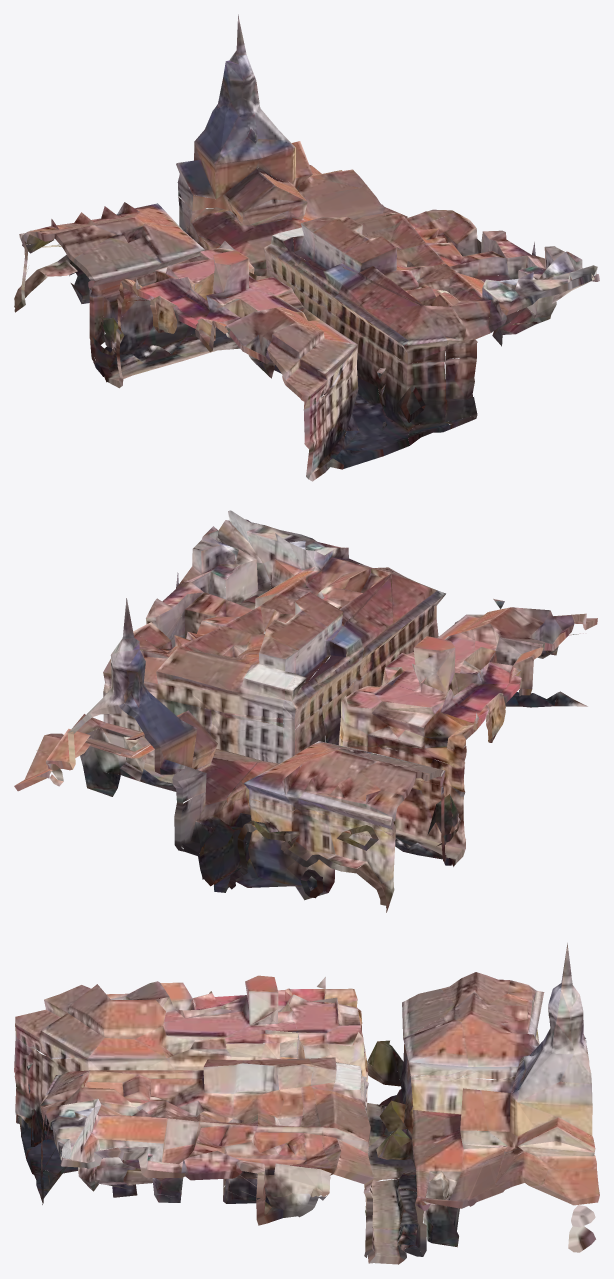
3 views of the same model, one above another, from view 1: azimuth 30°, elevation 25°; view 2: azimuth 150°, elevation 25°; view 3: azimuth 270°, elevation 25° (orthographic). The views are drawn at different scales.
Parts seen in each view (by area): view 1: Mesh_0; view 2: Mesh_0; view 3: Mesh_0.
Boxes of the visible parts, left/top/right/bottom form: Mesh_0: left=14, top=14, right=599, bottom=481; Mesh_0: left=14, top=510, right=597, bottom=912; Mesh_0: left=14, top=943, right=599, bottom=1264.
Bounding box in the file's own units: 66.57 × 44.33 × 82.61.
2 materials, 2 textured.
